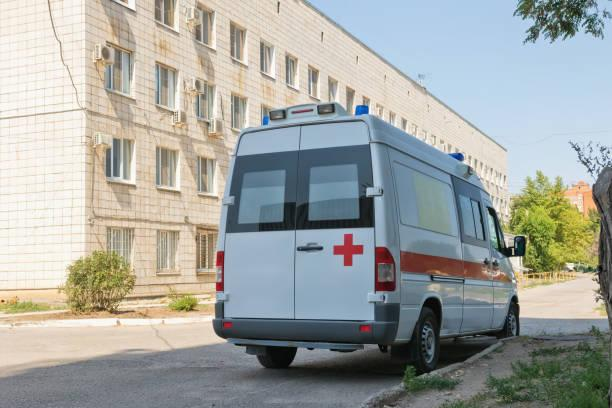ambulance_off: (211, 101, 527, 372)
